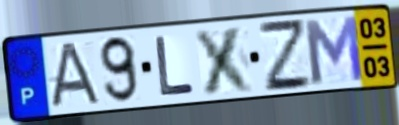9: (97, 35, 141, 107)
A: (46, 40, 104, 110)
L: (152, 34, 198, 99)
M: (300, 13, 367, 86)
X: (192, 23, 258, 96)
Z: (256, 18, 315, 95)
